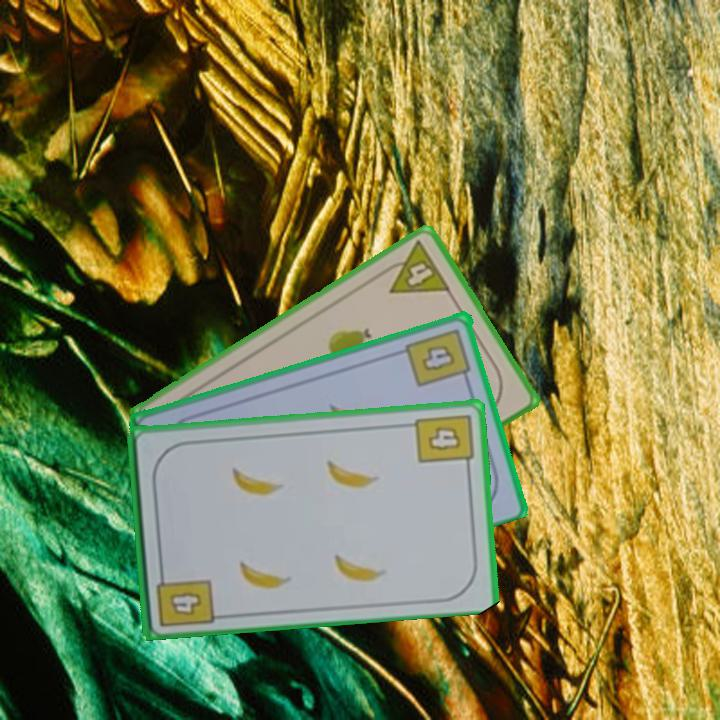4b: (403, 324, 474, 389), (152, 564, 216, 629), (412, 410, 476, 473)
4p: (375, 237, 454, 297)
